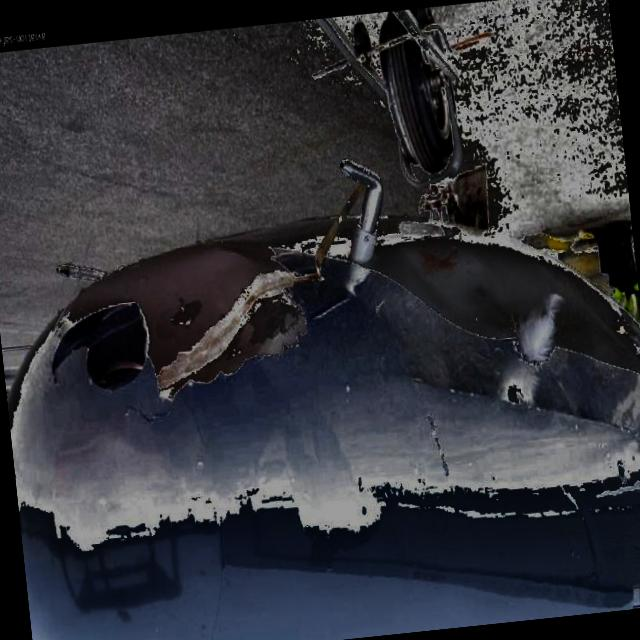crack: (119, 395, 175, 430)
dent: (196, 239, 270, 326), (453, 240, 513, 332), (399, 246, 449, 315)
